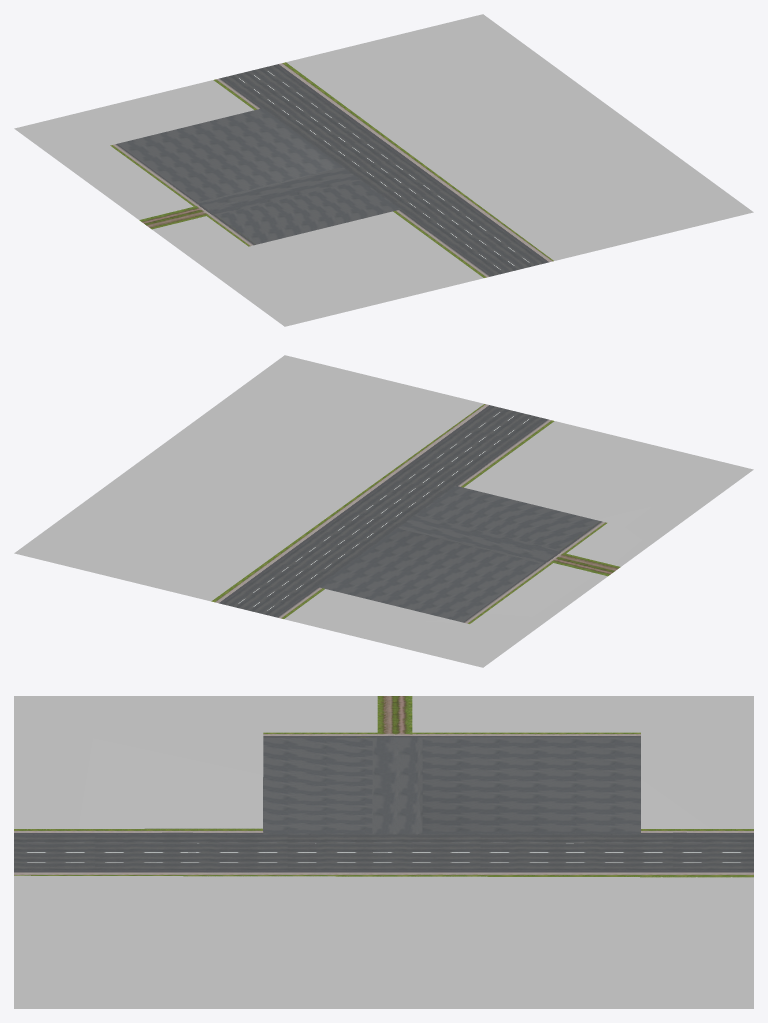
The model's file is road4.FBX.
3 renders of one model, top to bottom at view 1: azimuth 30°, elevation 25°; view 2: azimuth 150°, elevation 25°; view 3: azimuth 270°, elevation 25°, orthographic. The views are drawn at different scales.
Parts seen in each view (by area): view 1: road; view 2: road; view 3: road.
Boxes of the visible parts, x1=… form: road: x1=14, y1=14, x2=753, y2=326; road: x1=14, y1=355, x2=753, y2=667; road: x1=14, y1=696, x2=753, y2=1008.
Bounding box in the file's own units: 12000 × 3.5 × 12000.
